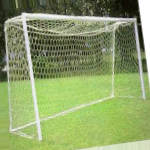goals: (3, 11, 147, 141)
